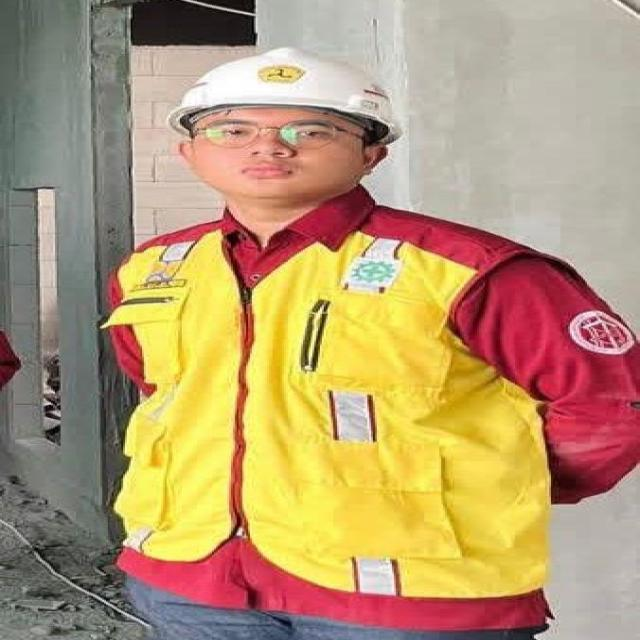safetyhelmet: (175, 44, 409, 178)
